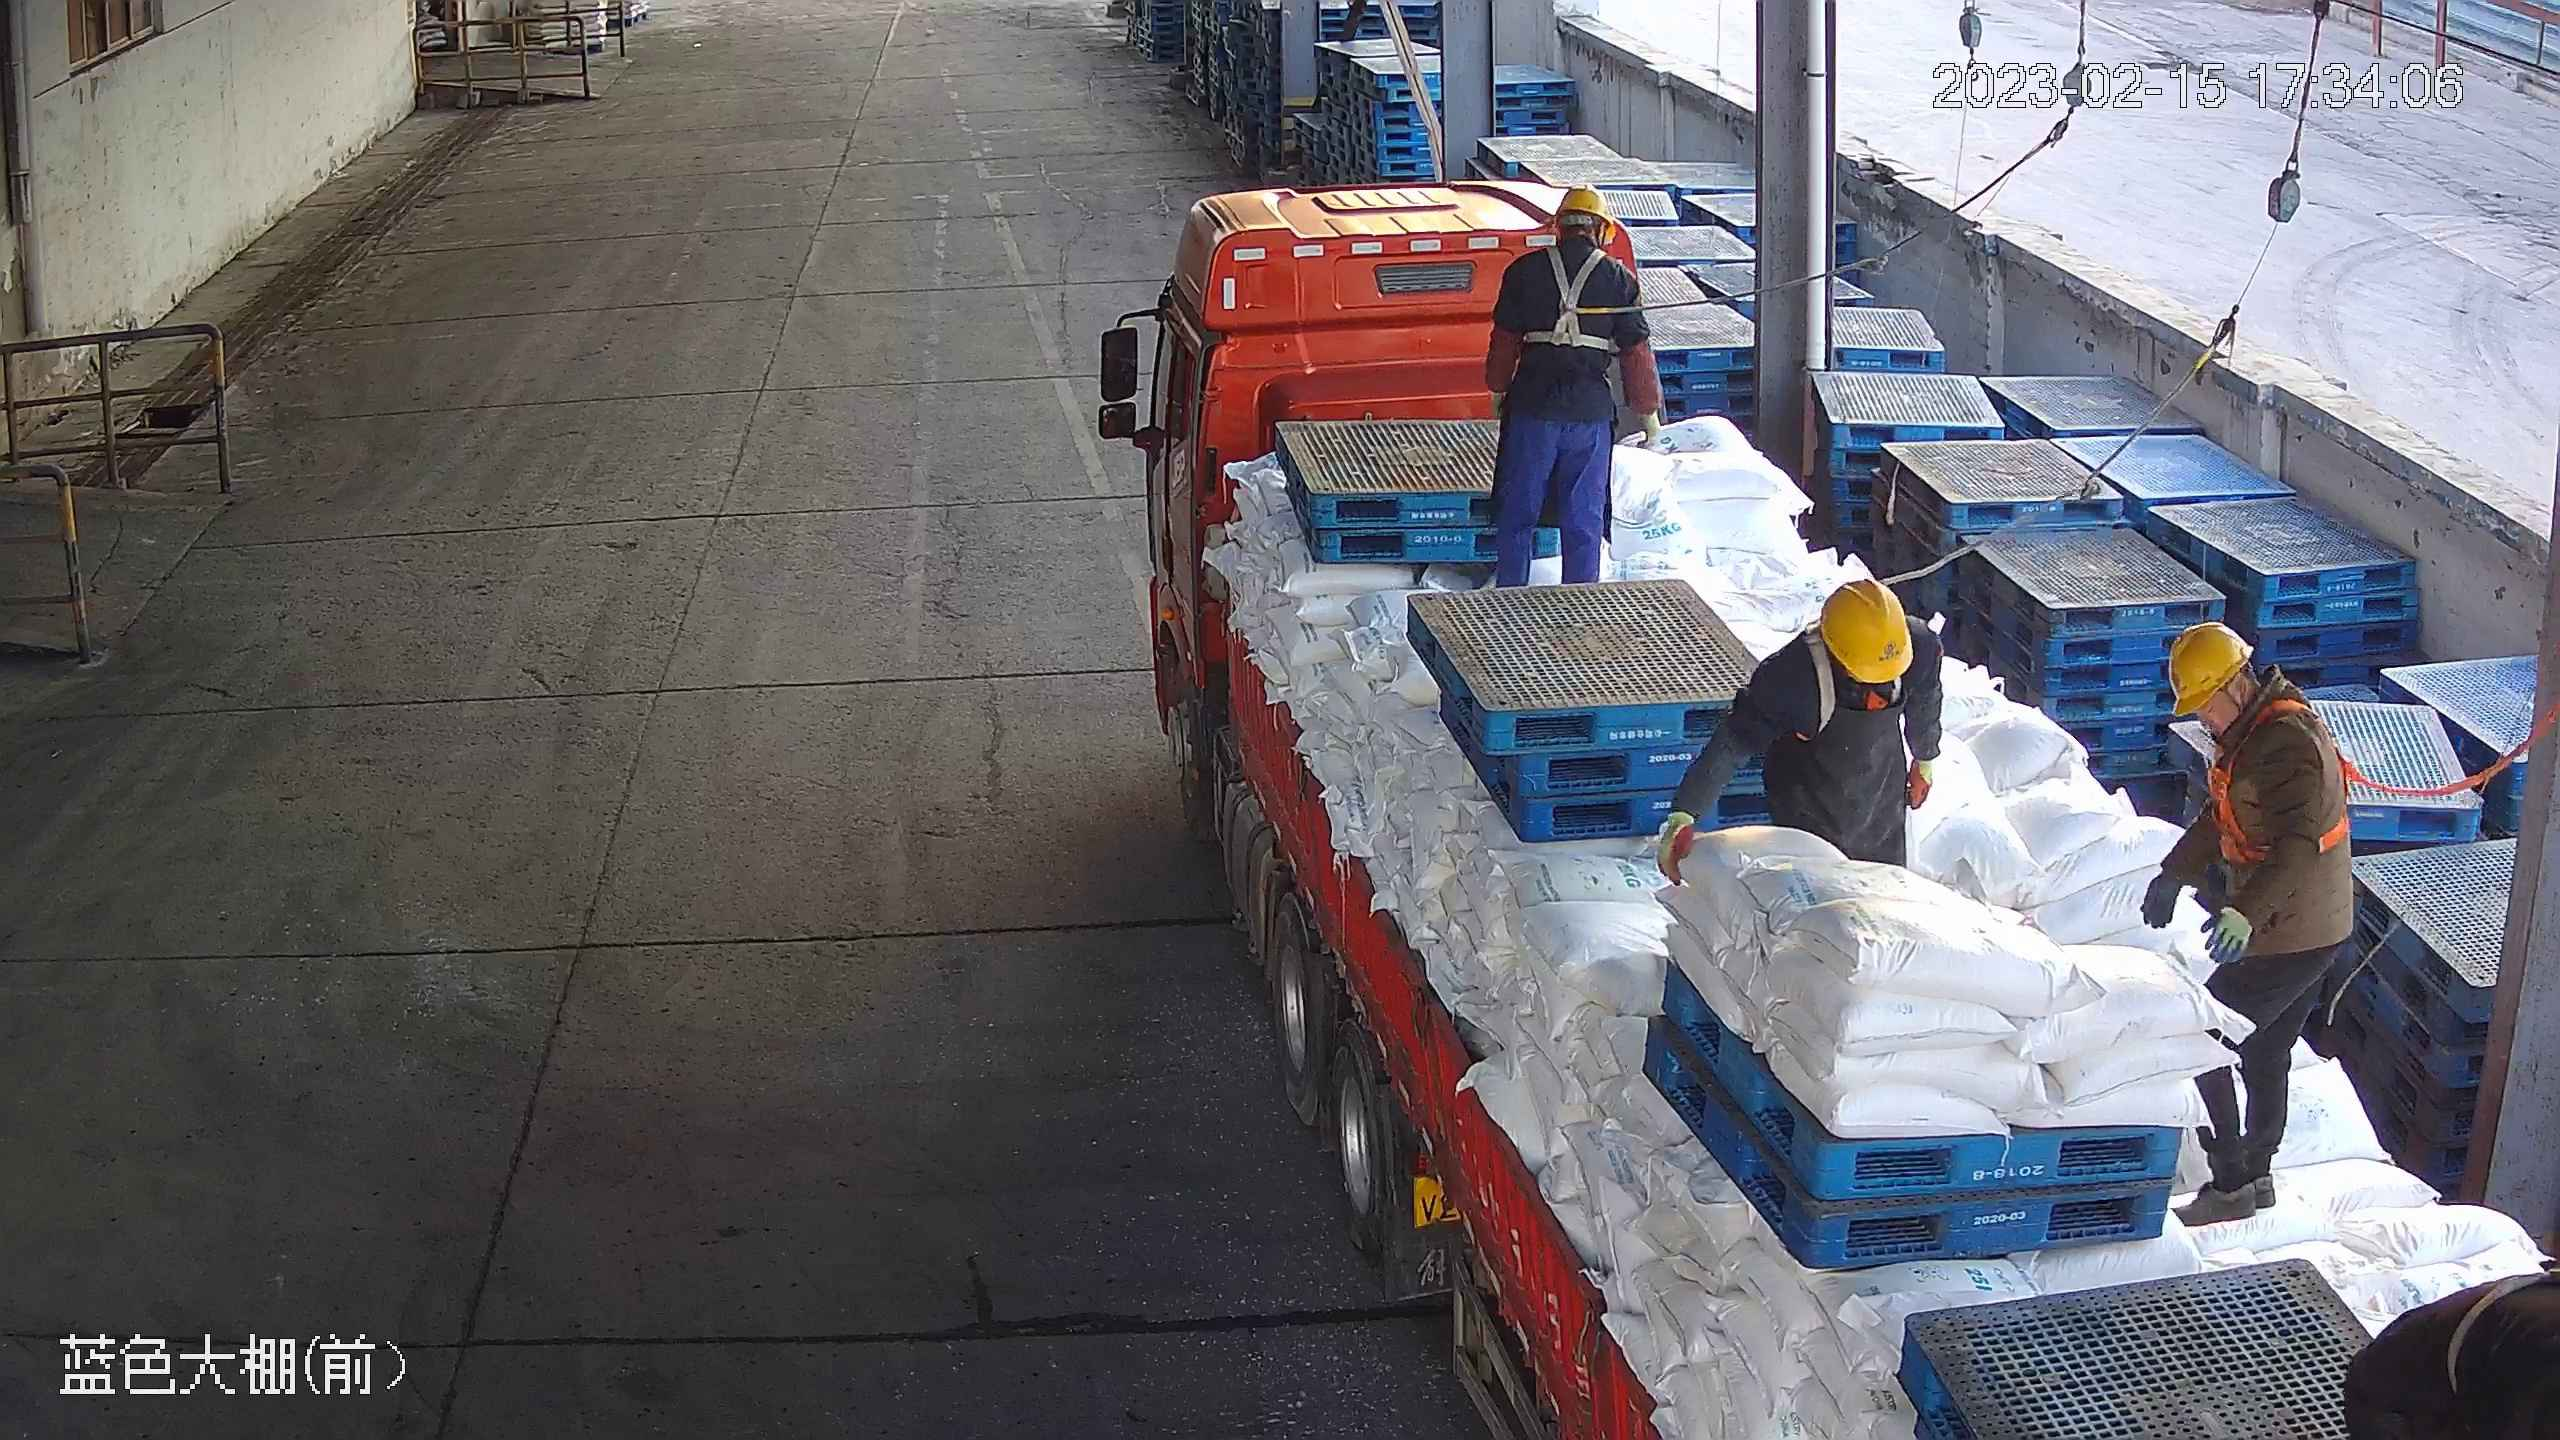belt: (2206, 702, 2380, 863), (1793, 590, 1912, 737), (1518, 241, 1644, 358)
head: (2164, 620, 2348, 782), (1749, 579, 1950, 708), (1493, 186, 1643, 298)
helmet: (1819, 579, 1913, 686), (2166, 620, 2254, 717), (1551, 184, 1618, 246)
people: (2140, 619, 2355, 1228), (1649, 580, 1942, 894), (1482, 182, 1663, 593)
truck: (1146, 175, 2560, 1440)
